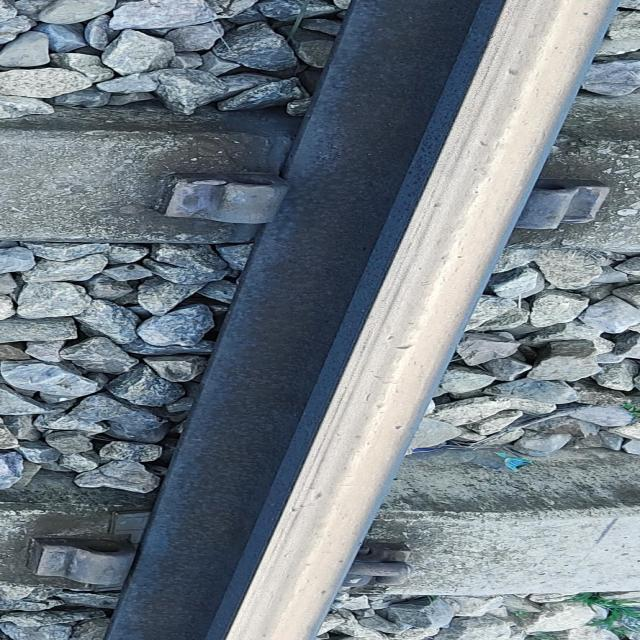Good Fasteners: (343, 543, 412, 586)
Missing Fastener: (149, 156, 323, 247), (4, 528, 150, 604), (516, 160, 639, 229)
